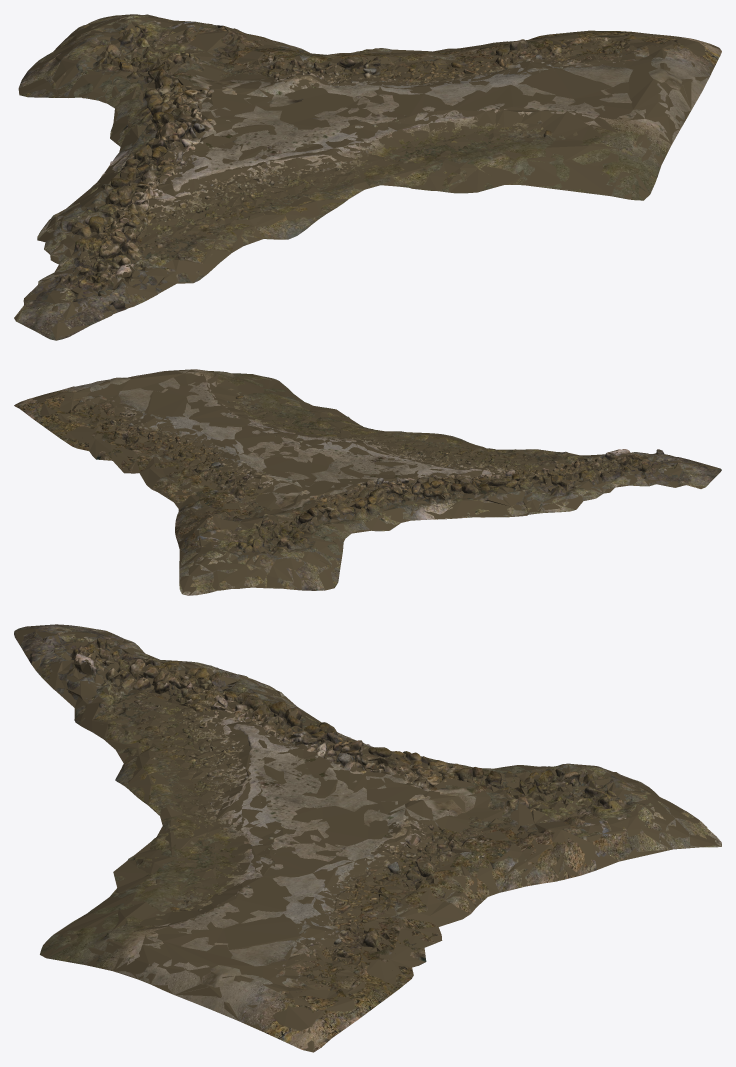
Rendered from coast_rocks_01.glb.
3 renders of one model, top to bottom at view 1: azimuth 30°, elevation 25°; view 2: azimuth 150°, elevation 25°; view 3: azimuth 270°, elevation 25°, orthographic. The views are drawn at different scales.
Parts seen in each view (by area): view 1: lod0, shadow; view 2: lod0, shadow; view 3: lod0, shadow.
Boxes of the visible parts, bbox=[...] form: lod0: bbox=[15, 14, 721, 340]; shadow: bbox=[14, 14, 721, 340]; lod0: bbox=[14, 369, 721, 595]; shadow: bbox=[15, 369, 719, 595]; lod0: bbox=[14, 624, 721, 1052]; shadow: bbox=[14, 626, 721, 1052].
Size of what is drawn, in the model's own units: 59.51 by 3.28 by 42.51.
1 material, 1 textured.
